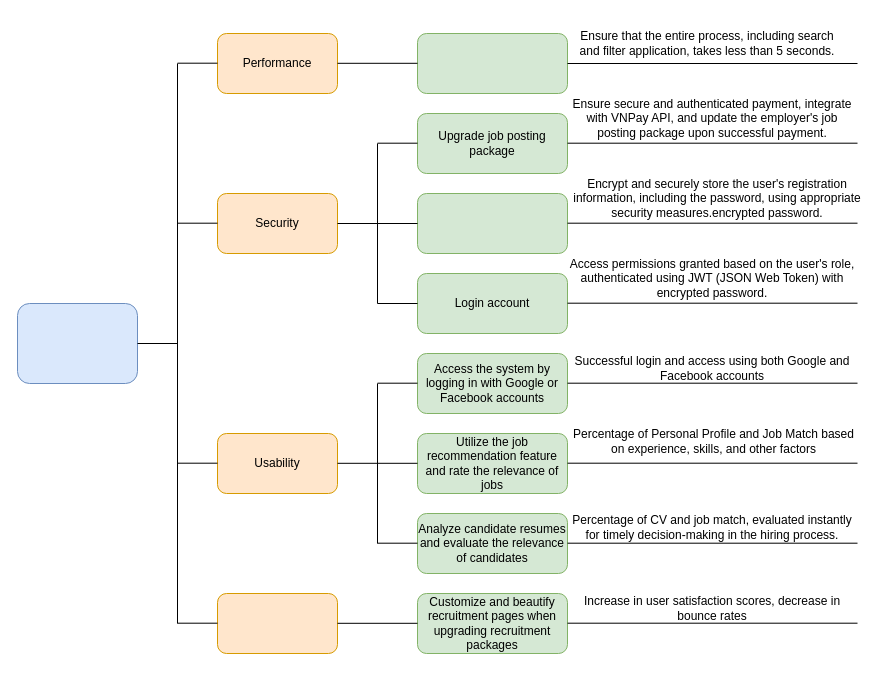
This 885x682 diagram has some shape labels left out. The centre of each missing label's shape, as x and y in pixels:
"Intelligence IT Job Finding Quality / Entity" belongs at point 77,343.
"Modifiability" belongs at point 277,623.
"Register account" belongs at point 492,223.
"Search for IT jobs and apply filters" belongs at point 492,63.
